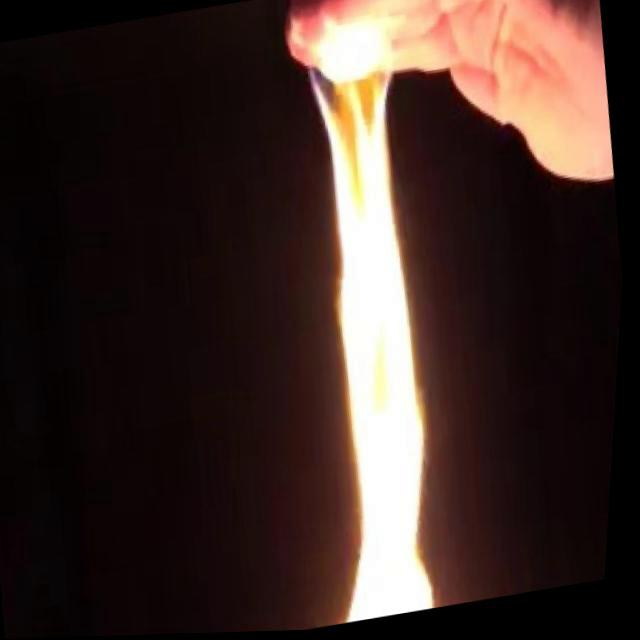fire: (245, 2, 503, 630)
